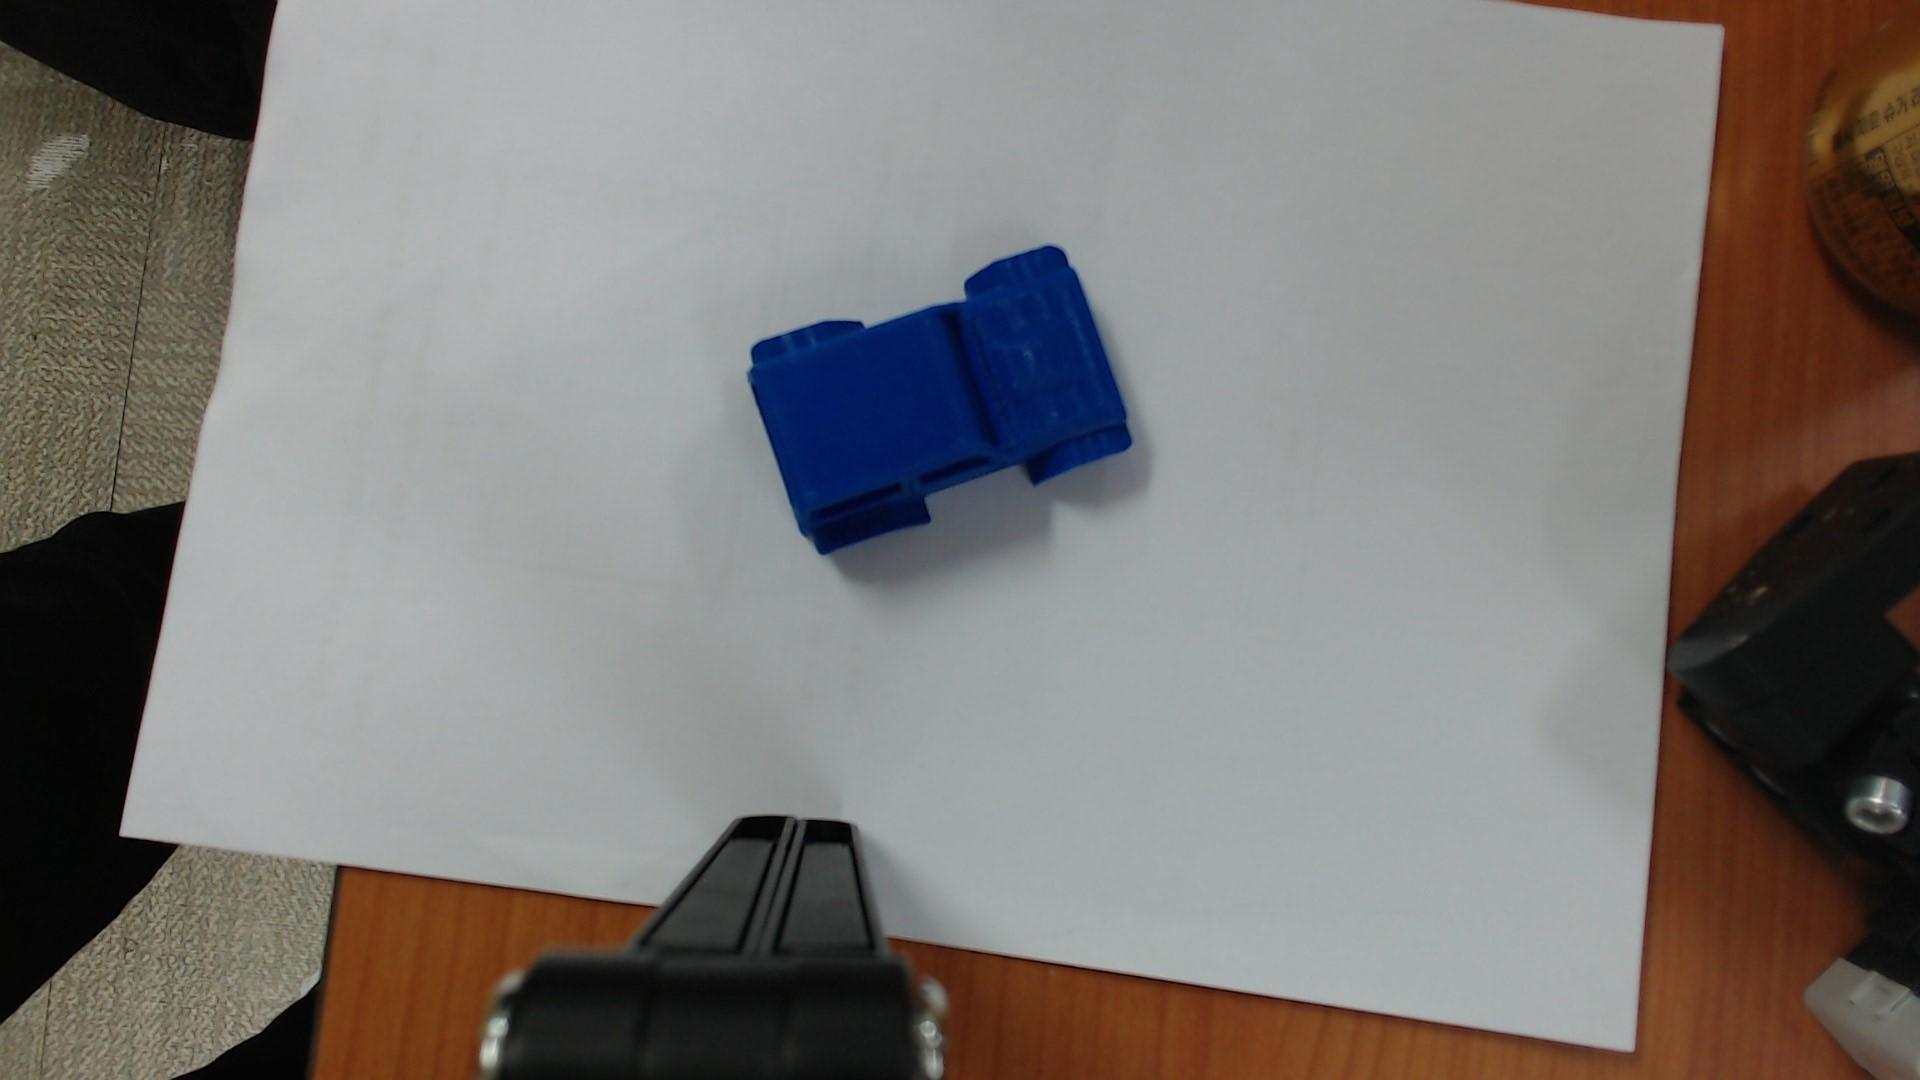Upper_ng: (748, 246, 1131, 554)
